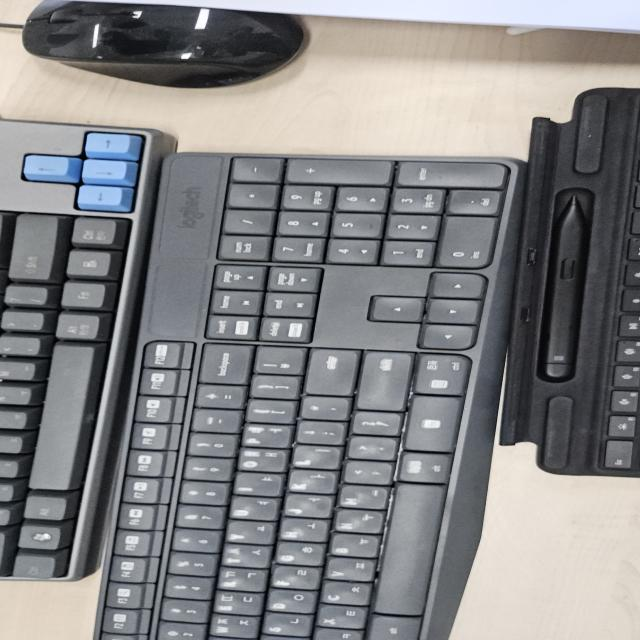Keyboard: (4, 88, 635, 638)
Mouse: (19, 0, 311, 90)
